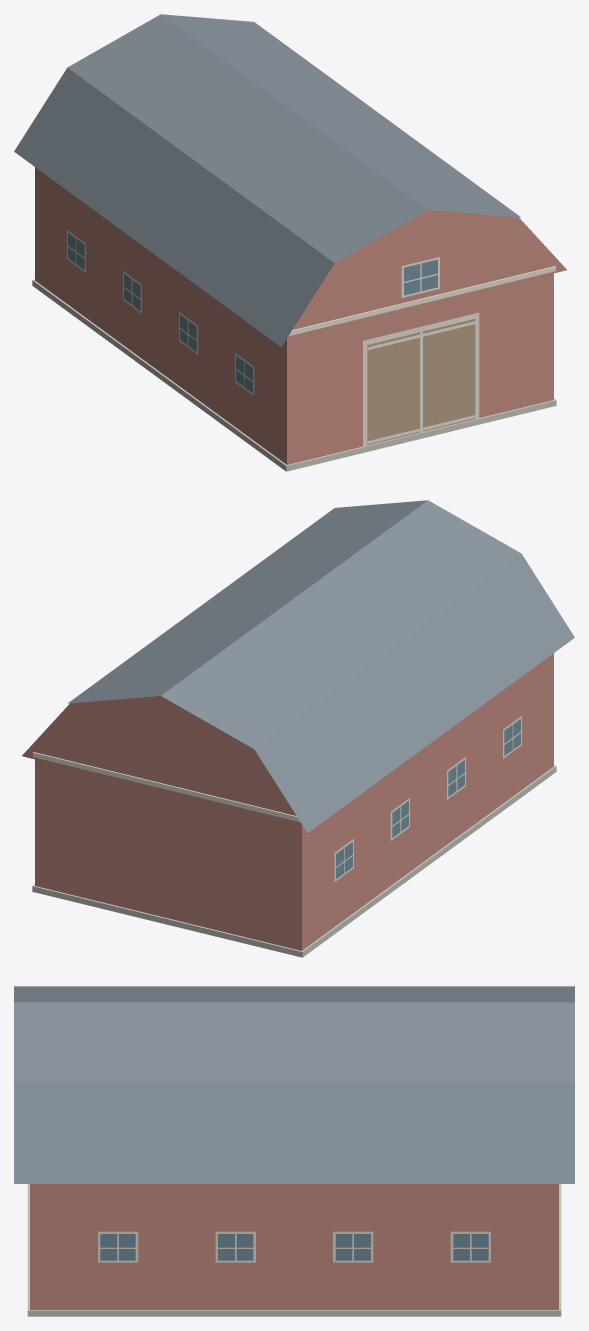
The model's file is barn-gambrel.glb.
3 renders of one model, top to bottom at view 1: azimuth 30°, elevation 25°; view 2: azimuth 150°, elevation 25°; view 3: azimuth 270°, elevation 25°, orthographic. The views are drawn at different scales.
Parts seen in each view (by area): view 1: barn-gambrel; view 2: barn-gambrel; view 3: barn-gambrel.
Boxes of the visible parts, x1=… form: barn-gambrel: x1=14, y1=14, x2=566, y2=471; barn-gambrel: x1=22, y1=500, x2=574, y2=957; barn-gambrel: x1=14, y1=986, x2=574, y2=1316.
Bounding box in the file's own units: 12.1 × 9.2 × 19.08.
